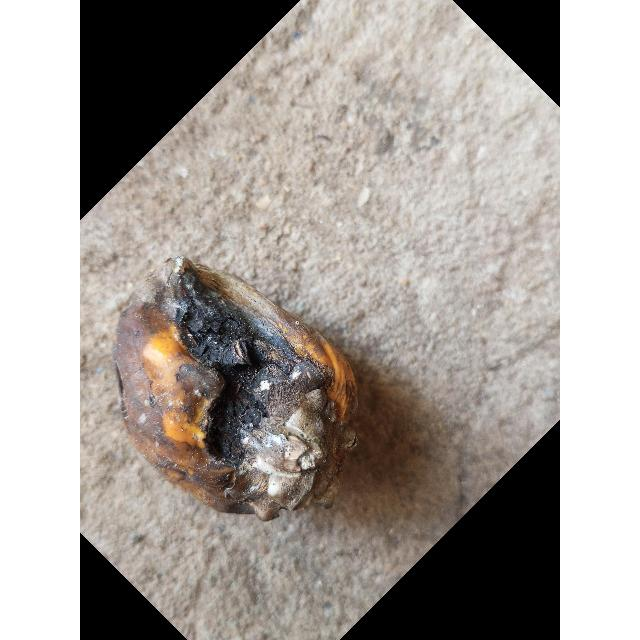damaged: (113, 257, 367, 525)
